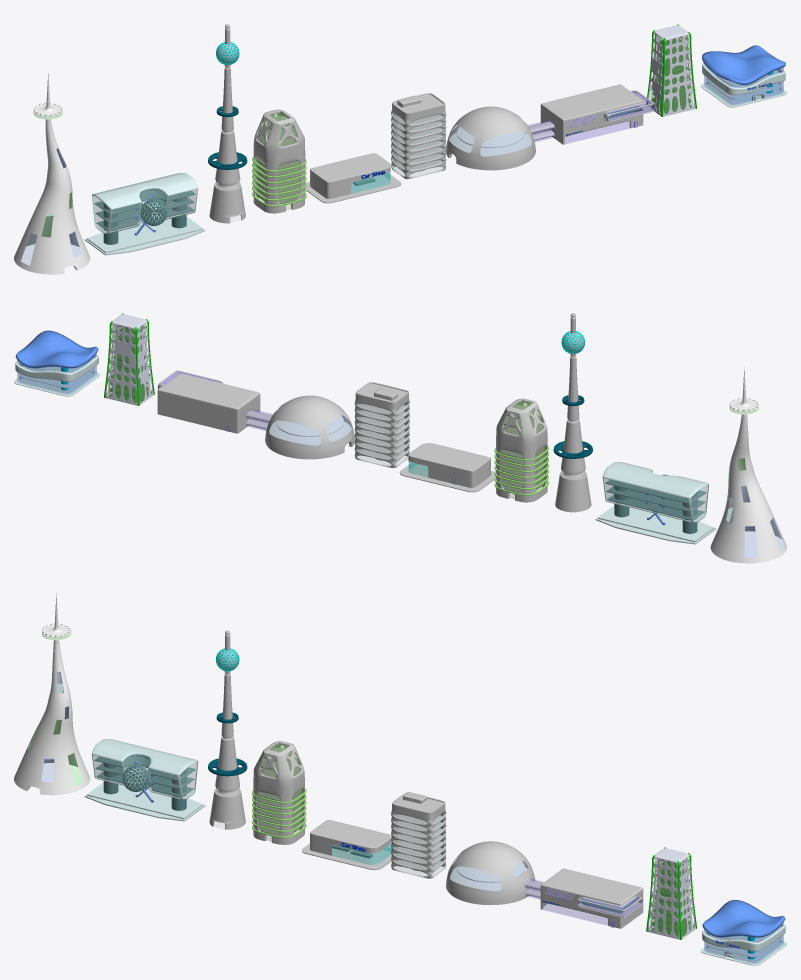
Rendered from frutiger_aero_buildings.glb.
3 renders of one model, top to bottom at view 1: azimuth 30°, elevation 25°; view 2: azimuth 150°, elevation 25°; view 3: azimuth 330°, elevation 25°, orthographic.
Parts seen in each view (by area): view 1: fa_museum, fa_tower1_body, fa_building1, fa_building0, fa_tower_body0, fa_building2_frame0, fa_building3_wall0, fa_shop0, fa_expo_centre_roof, fa_building3_window0, fa_building3_ground1, fa_building3_ground2 (+21 smaller); view 2: fa_museum, fa_tower1_body, fa_building1, fa_building0, fa_tower_body0, fa_building2_frame0, fa_shop0, fa_building3_window0, fa_building3_wall0, fa_expo_centre_roof, fa_building3_ground2, fa_building3_ground1 (+18 smaller); view 3: fa_museum, fa_tower1_body, fa_building1, fa_building0, fa_tower_body0, fa_building2_frame0, fa_building3_wall0, fa_expo_centre_roof, fa_building3_window0, fa_shop0, fa_building3_ground1, fa_building3_ground2 (+15 smaller).
Boxes of the visible parts, x1,y1,x2,y2 form: fa_museum: [446, 84, 654, 170]; fa_tower1_body: [14, 73, 90, 274]; fa_building1: [391, 93, 446, 179]; fa_building0: [253, 109, 305, 213]; fa_tower_body0: [209, 24, 245, 223]; fa_building2_frame0: [647, 25, 695, 116]; fa_building3_wall0: [92, 173, 198, 233]; fa_shop0: [310, 153, 390, 198]; fa_expo_centre_roof: [702, 45, 785, 84]; fa_building3_window0: [92, 188, 197, 232]; fa_building3_ground1: [87, 217, 202, 253]; fa_building3_ground2: [94, 188, 195, 231]; fa_museum: [157, 370, 354, 459]; fa_tower1_body: [710, 366, 786, 563]; fa_building1: [354, 382, 409, 468]; fa_building0: [496, 398, 547, 502]; fa_tower_body0: [555, 313, 591, 512]; fa_building2_frame0: [105, 314, 153, 405]; fa_shop0: [408, 443, 490, 487]; fa_building3_window0: [603, 471, 708, 521]; fa_building3_wall0: [602, 462, 708, 522]; fa_expo_centre_roof: [15, 330, 98, 368]; fa_building3_ground2: [605, 479, 706, 520]; fa_building3_ground1: [598, 506, 713, 542]; fa_museum: [446, 841, 643, 928]; fa_tower1_body: [14, 592, 90, 795]; fa_building1: [391, 792, 446, 878]; fa_building0: [253, 741, 304, 844]; fa_tower_body0: [209, 630, 245, 829]; fa_building2_frame0: [647, 848, 695, 939]; fa_building3_wall0: [91, 739, 198, 799]; fa_expo_centre_roof: [702, 900, 785, 937]; fa_building3_window0: [92, 754, 197, 798]; fa_shop0: [310, 820, 391, 855]; fa_building3_ground1: [87, 782, 202, 819]; fa_building3_ground2: [94, 754, 195, 797].
Size of the model in its own units: 732 by 186 by 75.6.
Materials: 3 (3 with a texture image).
